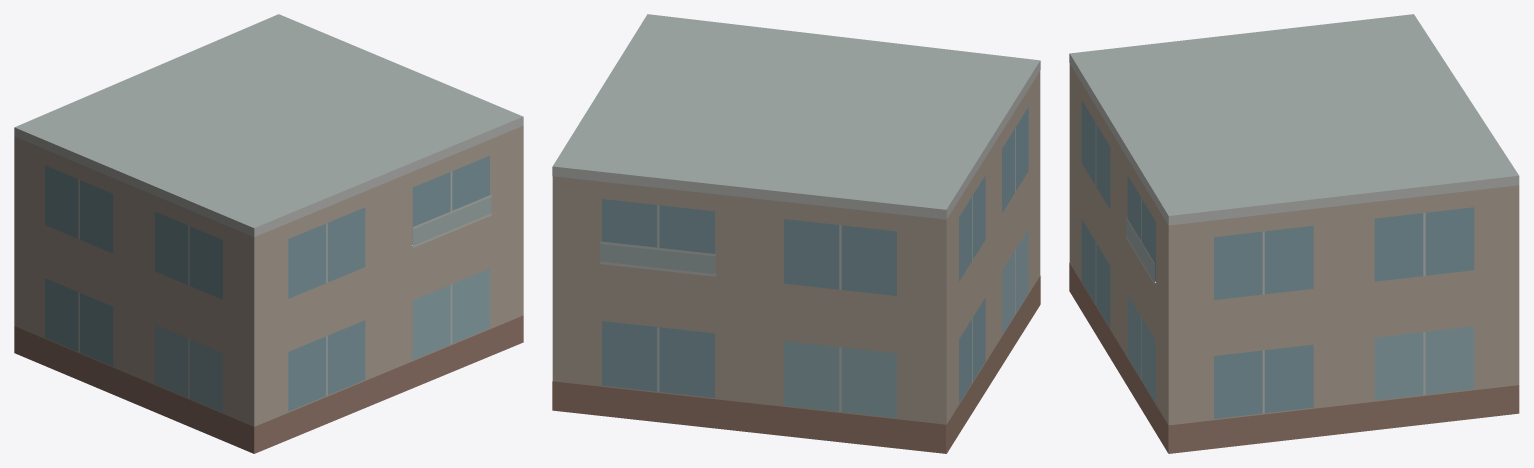
The model's file is survey-upis-32922612.glb.
The picture shows the model from 3 angles, left to right: view 1: azimuth 30°, elevation 25°; view 2: azimuth 150°, elevation 25°; view 3: azimuth 270°, elevation 25°; orthographic projection. The views are drawn at different scales.
Visible parts, largest first — view 1: survey-upis-32922612.tmp; view 2: survey-upis-32922612.tmp; view 3: survey-upis-32922612.tmp.
Part boxes in pixels (bbox=[...]): survey-upis-32922612.tmp: bbox=[14, 14, 523, 453]; survey-upis-32922612.tmp: bbox=[552, 14, 1040, 453]; survey-upis-32922612.tmp: bbox=[1069, 14, 1519, 453].
Size of the model in its own units: 11.13 by 6.1 by 10.47.
